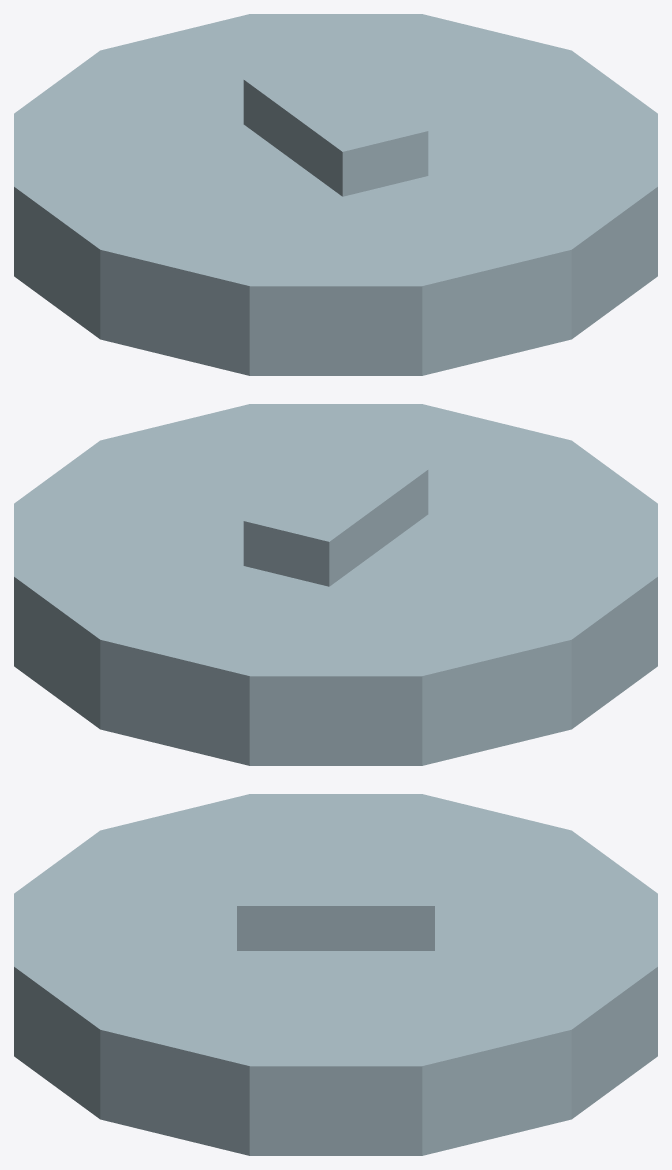
File: Prop_TrashLid.gltf
3 views of the same model, one above another, from view 1: azimuth 30°, elevation 25°; view 2: azimuth 150°, elevation 25°; view 3: azimuth 270°, elevation 25° (orthographic).
Parts seen in each view (by area): view 1: cylinder, cuboid; view 2: cylinder, cuboid; view 3: cylinder, cuboid.
Part boxes in pixels (box(x1,y1,x2,y2)): cylinder: box(14, 14, 657, 375); cuboid: box(243, 58, 428, 196); cylinder: box(14, 404, 657, 765); cuboid: box(243, 448, 428, 586); cylinder: box(14, 794, 657, 1155); cuboid: box(237, 864, 434, 950).
Bounding box in the file's own units: 0.4062 × 0.0938 × 0.4062.
Materials: 1 (1 with a texture image).
